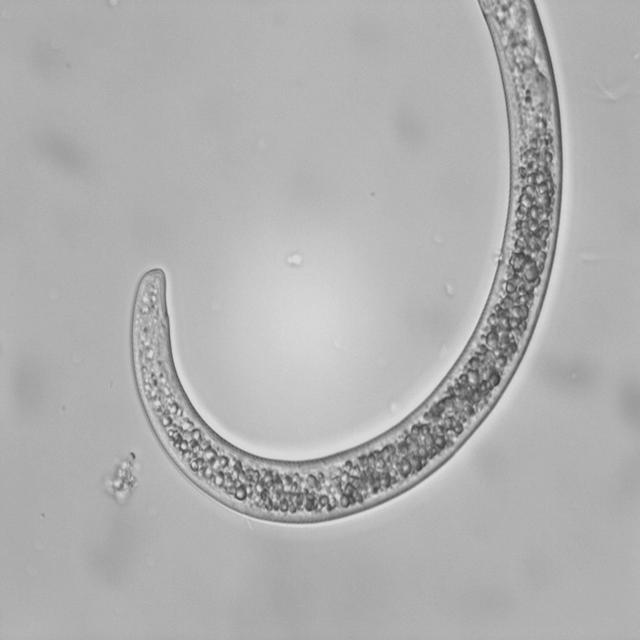Helicotylenchus: (126, 0, 570, 540)
